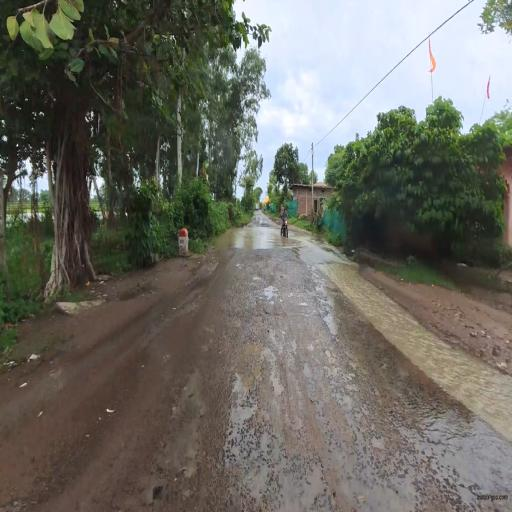ravelling: (169, 319, 494, 512)
